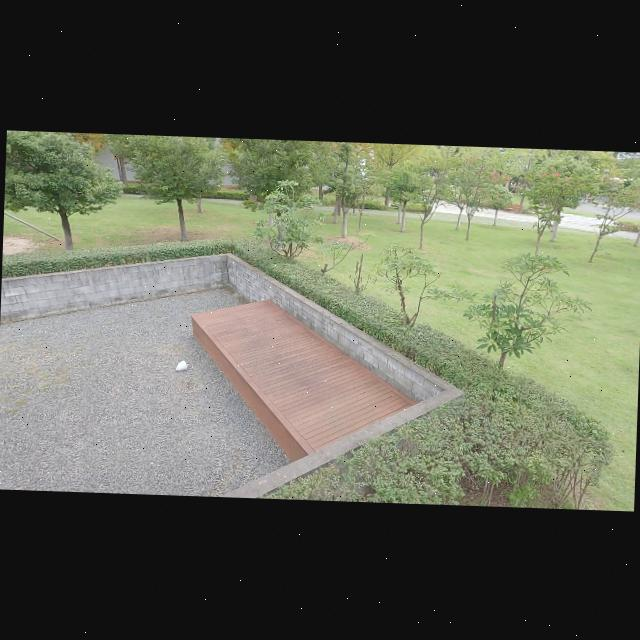trash: (174, 356, 191, 372)
